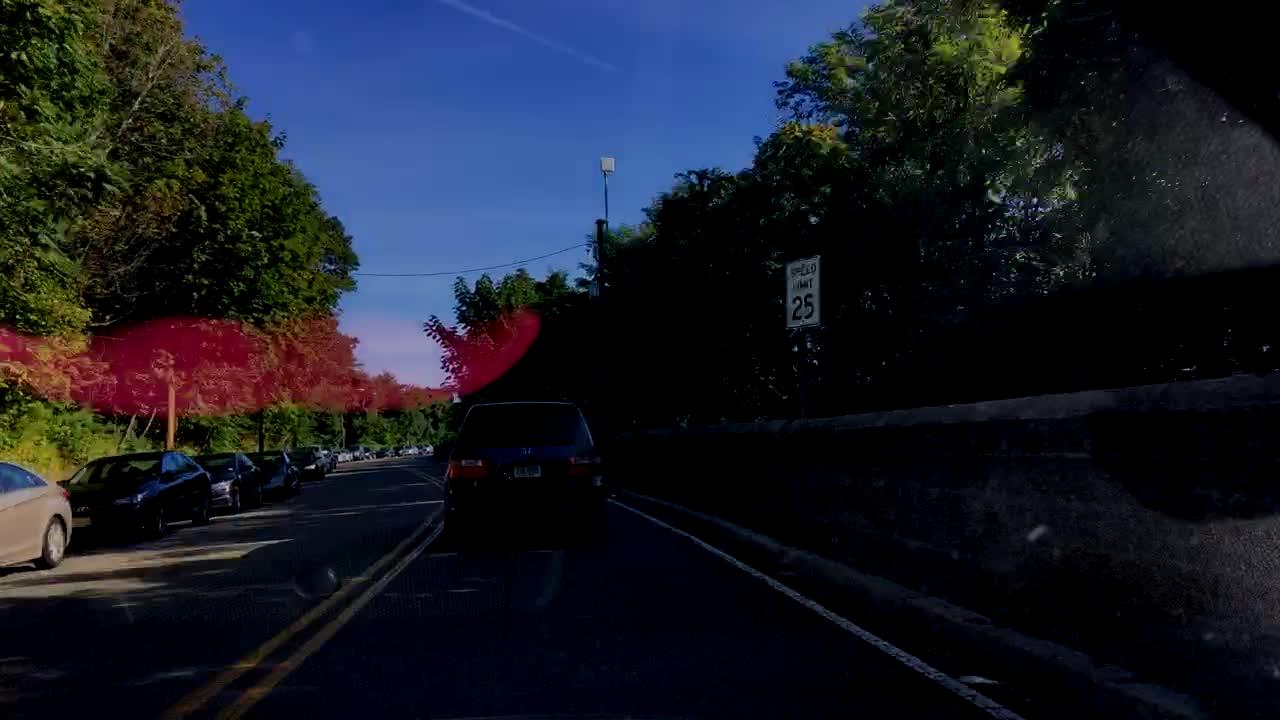Honda: (519, 447, 533, 459)
